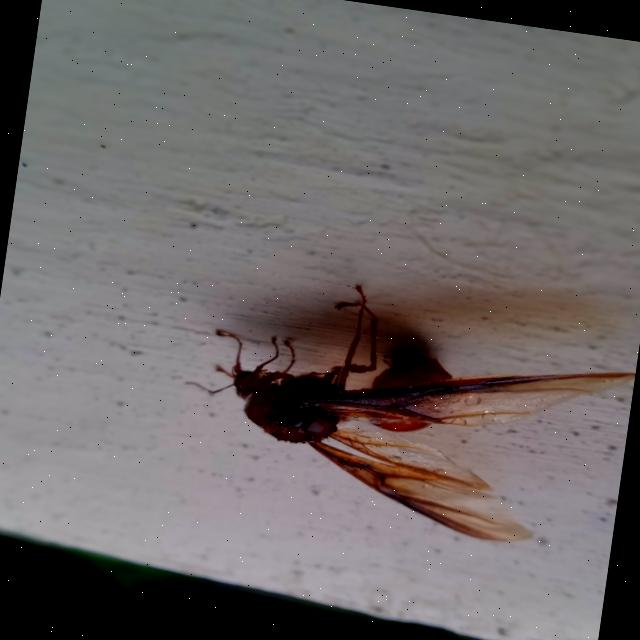Dead-Male-Alate: (169, 263, 640, 558)
